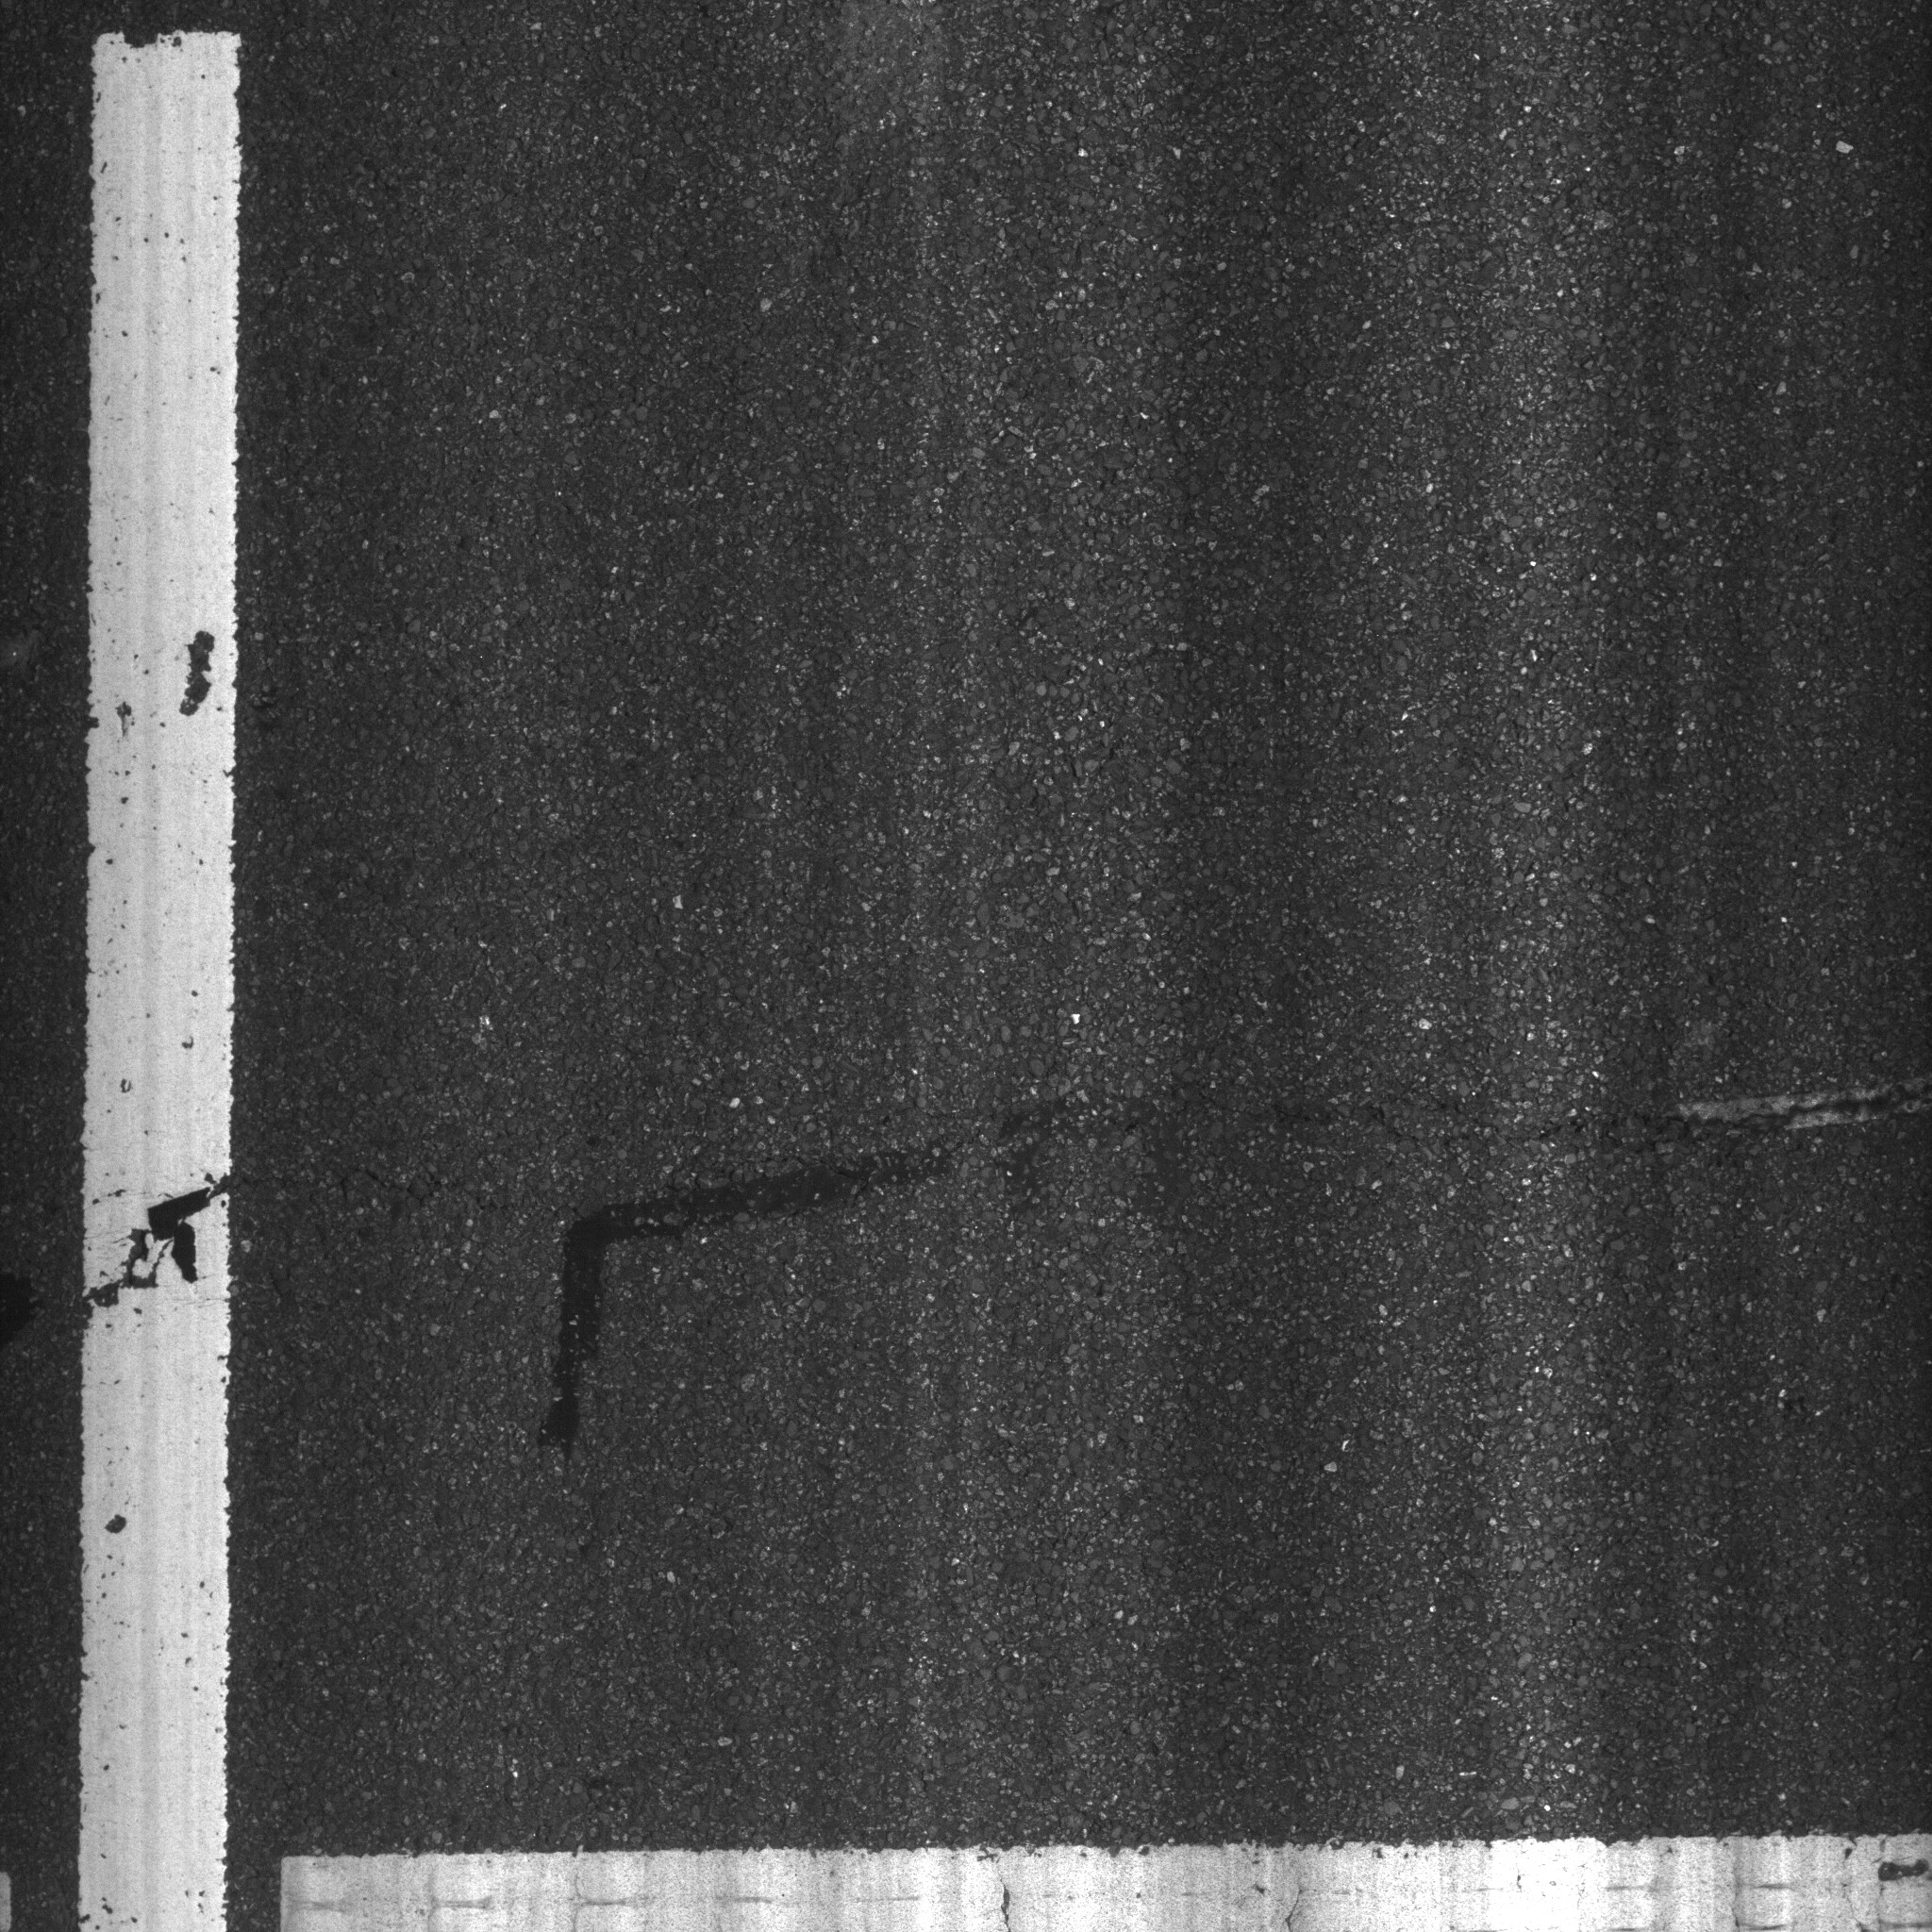transverse: (533, 1063, 1932, 1465)
